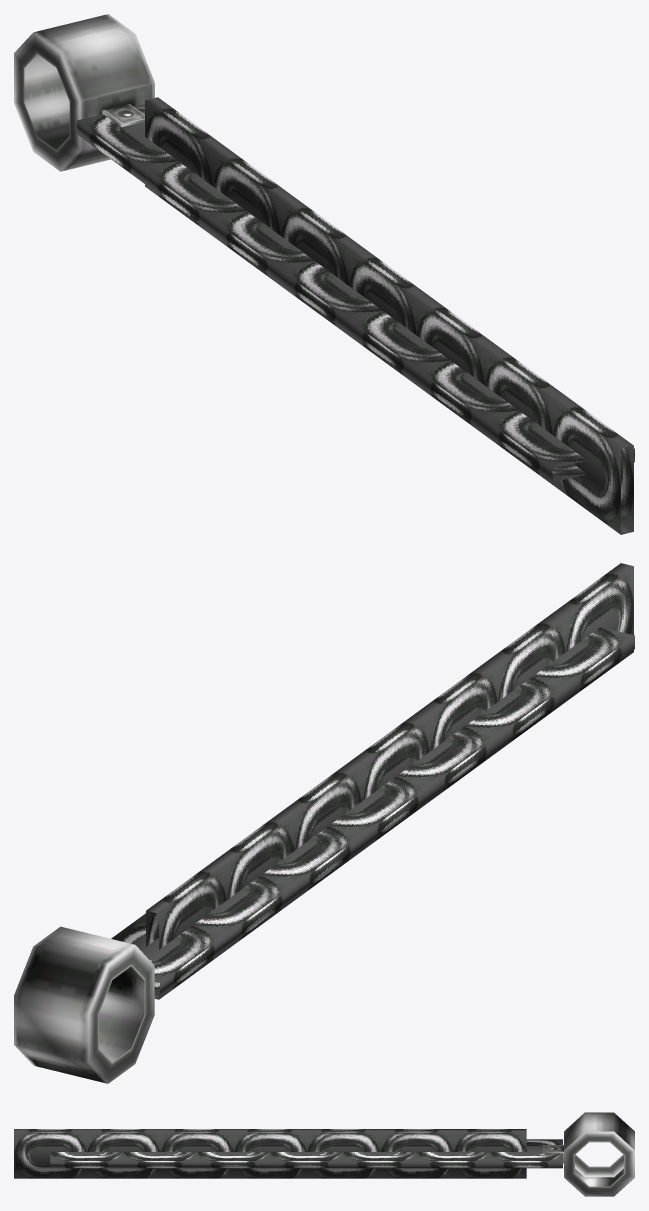
The model's file is INST_SWORDLIGHT_CHAINCUFFS.fbx.
The picture shows the model from 3 angles, top to bottom: view 1: azimuth 30°, elevation 25°; view 2: azimuth 150°, elevation 25°; view 3: azimuth 270°, elevation 25°; orthographic projection. The views are drawn at different scales.
Parts seen in each view (by area): view 1: INST_SWORDLIGHT_CHAINCUFFS; view 2: INST_SWORDLIGHT_CHAINCUFFS; view 3: INST_SWORDLIGHT_CHAINCUFFS.
Part boxes in pixels (box(x1,y1,x2,y2)): INST_SWORDLIGHT_CHAINCUFFS: box(14, 14, 634, 534); INST_SWORDLIGHT_CHAINCUFFS: box(14, 563, 634, 1083); INST_SWORDLIGHT_CHAINCUFFS: box(14, 1112, 634, 1196).
Bounding box in the file's own units: 1000 × 1385 × 12114.
2 materials, 2 textured.
